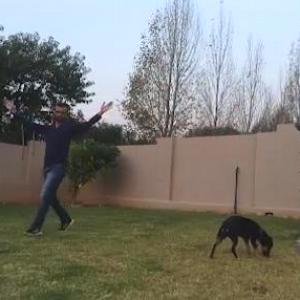takeoff: (4, 98, 125, 236)
